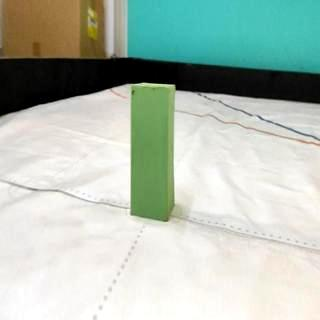greenbox: (130, 82, 176, 222)
